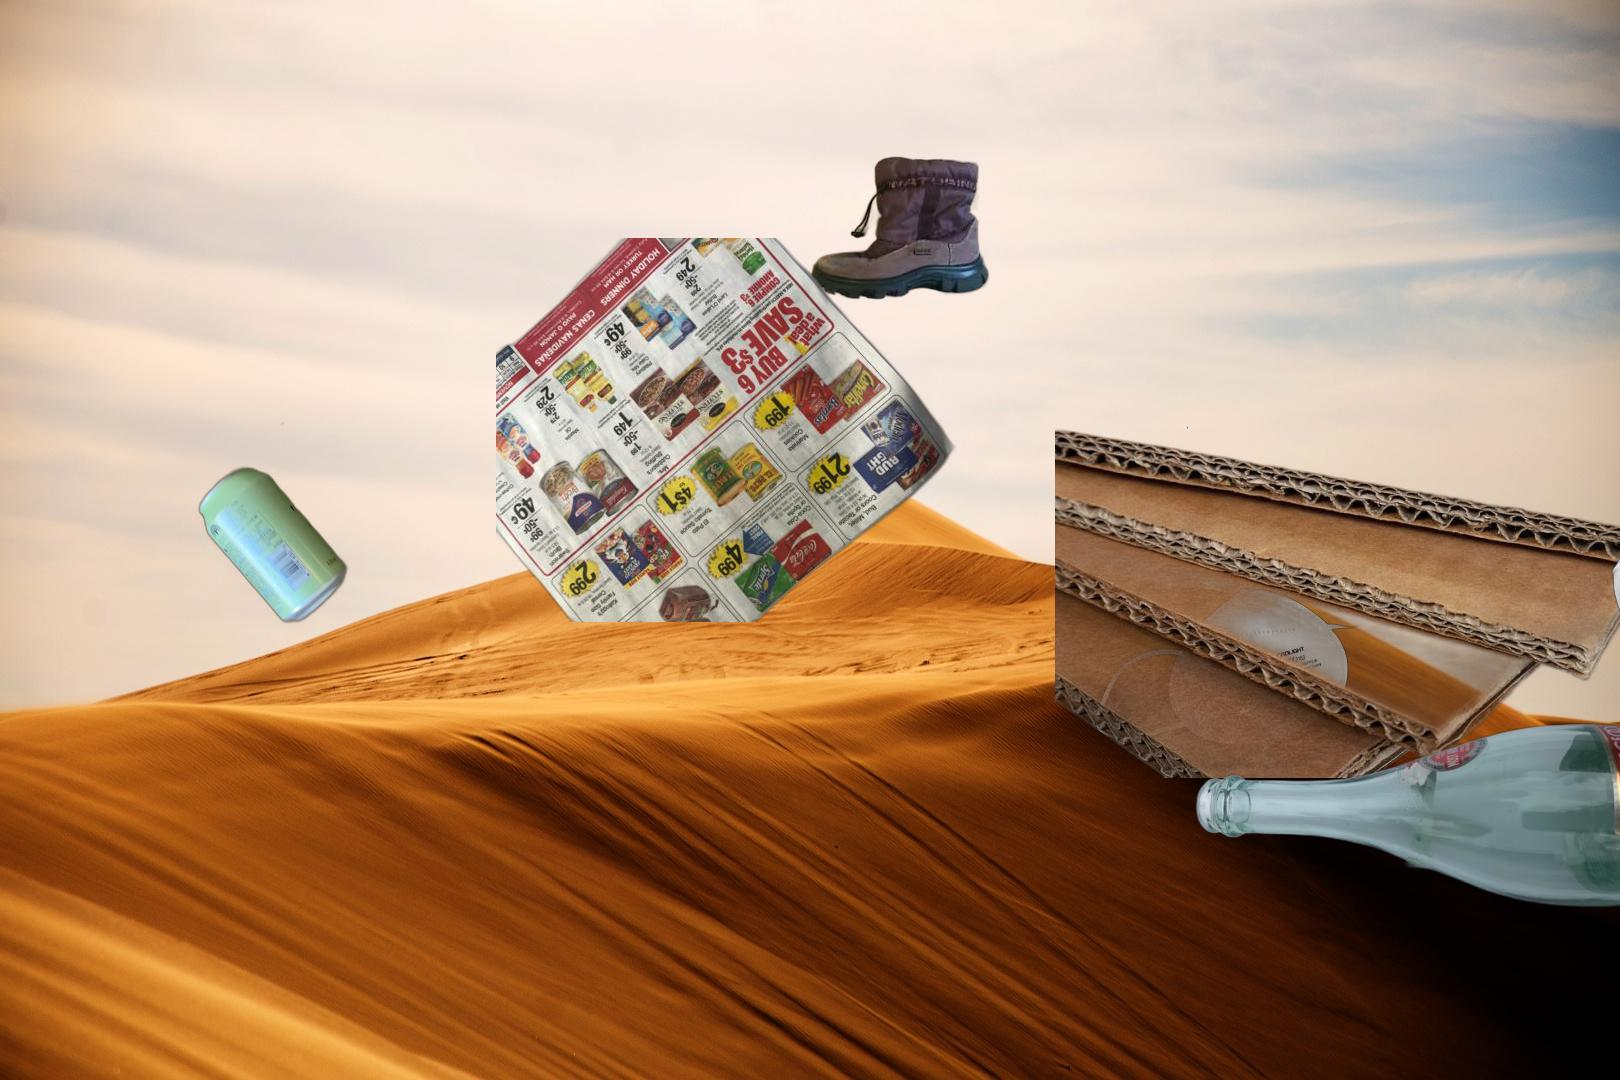glass: (1192, 720, 1620, 912)
metal-cans: (194, 462, 352, 627)
paper: (495, 237, 957, 622)
shoes: (808, 154, 994, 303)
trash: (1094, 588, 1402, 752), (1609, 504, 1620, 675)
trashbox-cardboard: (1055, 427, 1620, 777)
